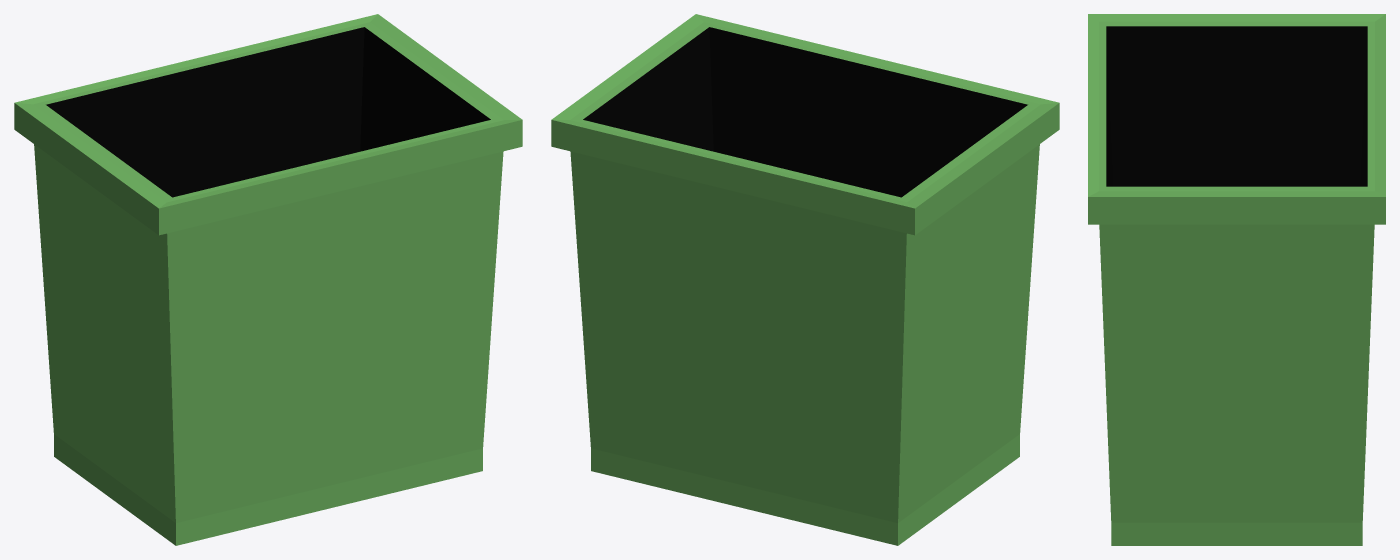
Rendered from SimpleTrashCan.glb.
3 renders of one model, left to right at view 1: azimuth 30°, elevation 25°; view 2: azimuth 150°, elevation 25°; view 3: azimuth 270°, elevation 25°, orthographic. The views are drawn at different scales.
Visible parts, largest first — view 1: Cube; view 2: Cube; view 3: Cube.
Boxes of the visible parts, x1,y1,x2,y2 form: Cube: (14,14,522,545); Cube: (551,14,1059,545); Cube: (1088,14,1385,545).
Size of the model in its own units: 0.2004 by 0.1856 by 0.1379.
